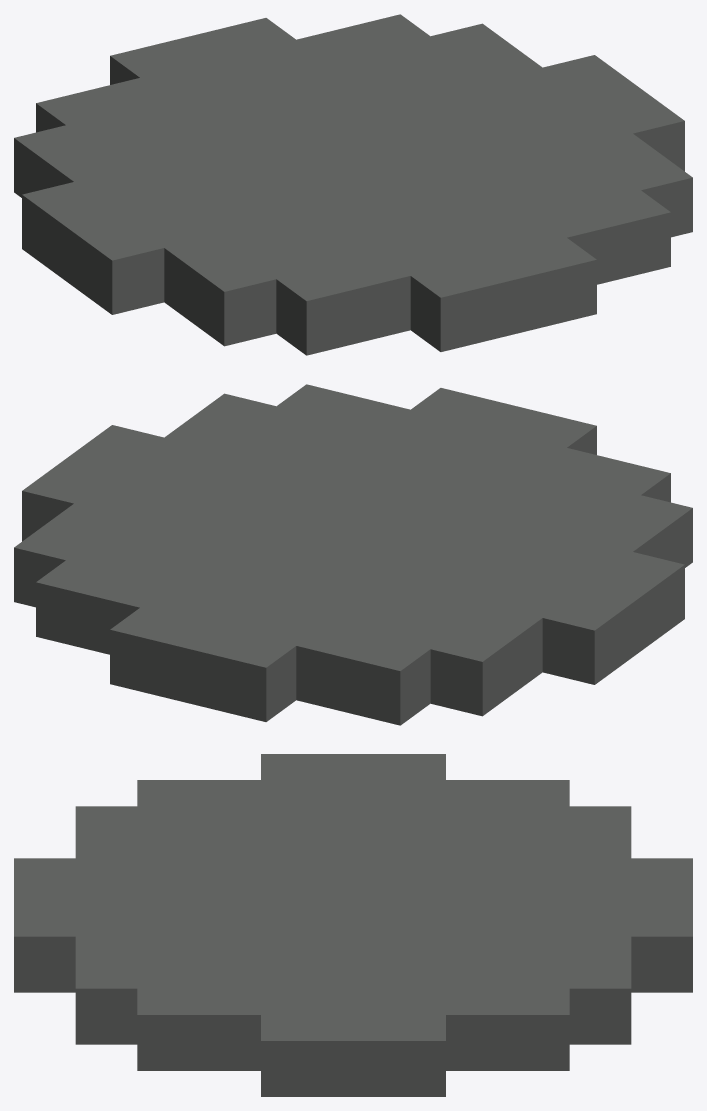
File: Table-top1.obj
The picture shows the model from 3 angles, top to bottom: view 1: azimuth 30°, elevation 25°; view 2: azimuth 150°, elevation 25°; view 3: azimuth 270°, elevation 25°; orthographic projection. The views are drawn at different scales.
Bounding box in the file's own units: 1.1 × 0.1 × 1.1.
Materials: 1 (1 with a texture image).
